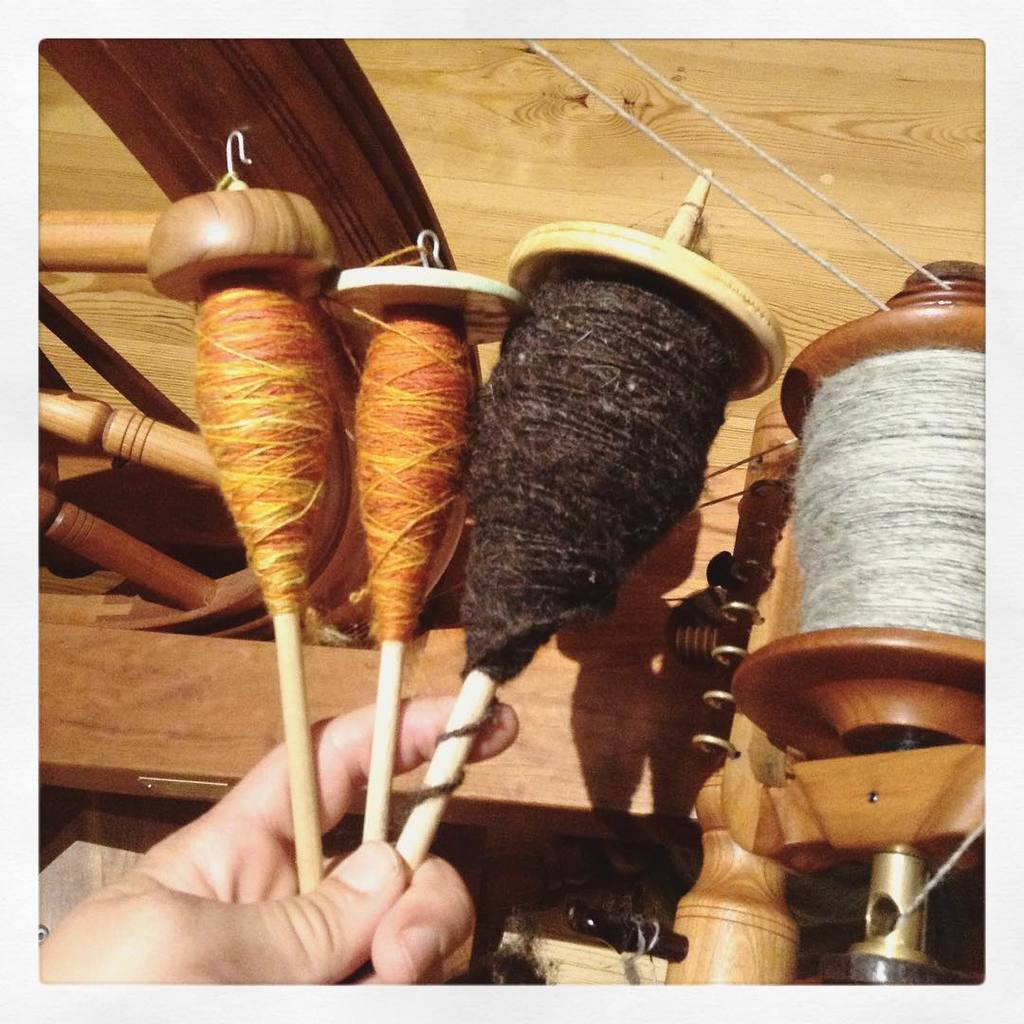Human_hand: (77, 738, 496, 992)
